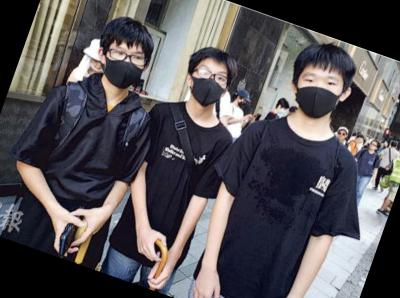mask_weared_incorrect: (87, 57, 107, 78)
with_mask: (288, 65, 349, 126), (99, 40, 151, 95), (186, 62, 233, 112), (237, 97, 249, 111), (278, 105, 290, 118)
without_mask: (336, 129, 350, 144), (368, 140, 381, 153)
